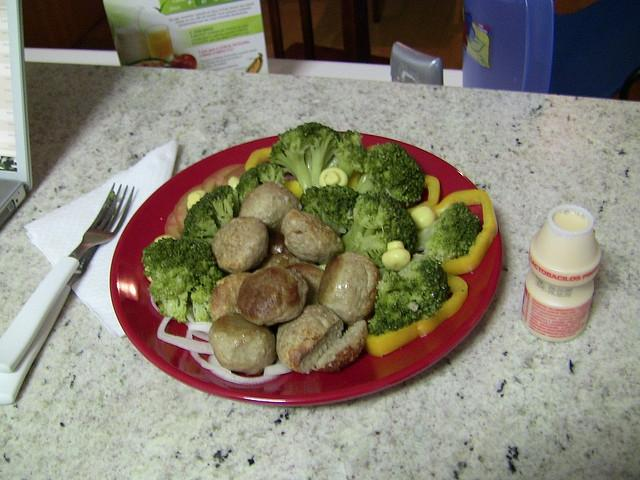bell pepper: (366, 273, 468, 358), (432, 190, 498, 276), (406, 174, 441, 218), (245, 146, 272, 172)
broccoli: (141, 237, 228, 324), (362, 254, 452, 336), (340, 191, 418, 269), (268, 122, 340, 194), (350, 142, 426, 205), (416, 203, 481, 264), (300, 184, 360, 238), (180, 186, 233, 246), (334, 131, 368, 178), (235, 168, 262, 210), (256, 163, 286, 185)
mushroom: (382, 240, 411, 272), (410, 206, 436, 230), (318, 167, 348, 187)
onion: (156, 317, 214, 355), (208, 355, 278, 385), (189, 350, 220, 371), (264, 362, 294, 376), (188, 322, 212, 336)
